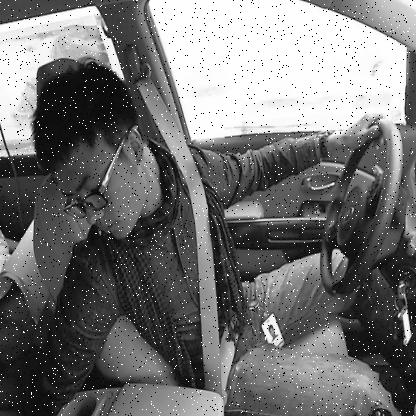seatbelt: (35, 60, 239, 306)
